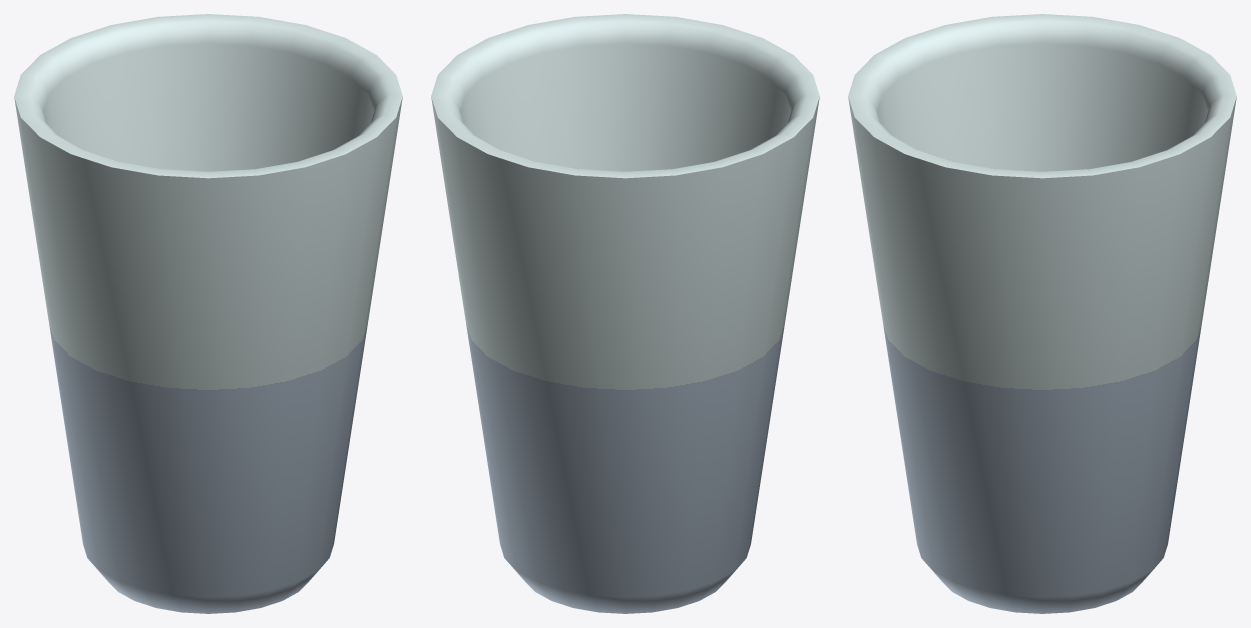
The model's file is vaso.fbx.
The picture shows the model from 3 angles, left to right: view 1: azimuth 30°, elevation 25°; view 2: azimuth 150°, elevation 25°; view 3: azimuth 270°, elevation 25°; orthographic projection.
Visible parts, largest first — view 1: vaso; view 2: vaso; view 3: vaso.
Boxes of the visible parts, x1,y1,x2,y2 form: vaso: (14, 14, 402, 613); vaso: (431, 14, 819, 613); vaso: (848, 14, 1236, 613).
Size of the model in its own units: 21.99 by 29.85 by 21.99.
